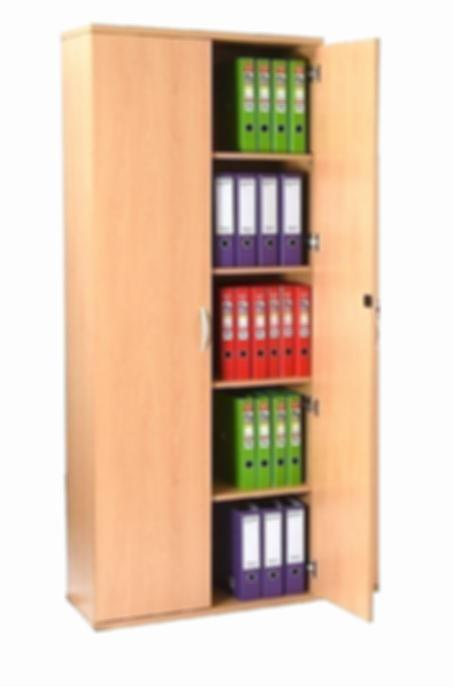Armario: (56, 20, 387, 626)
